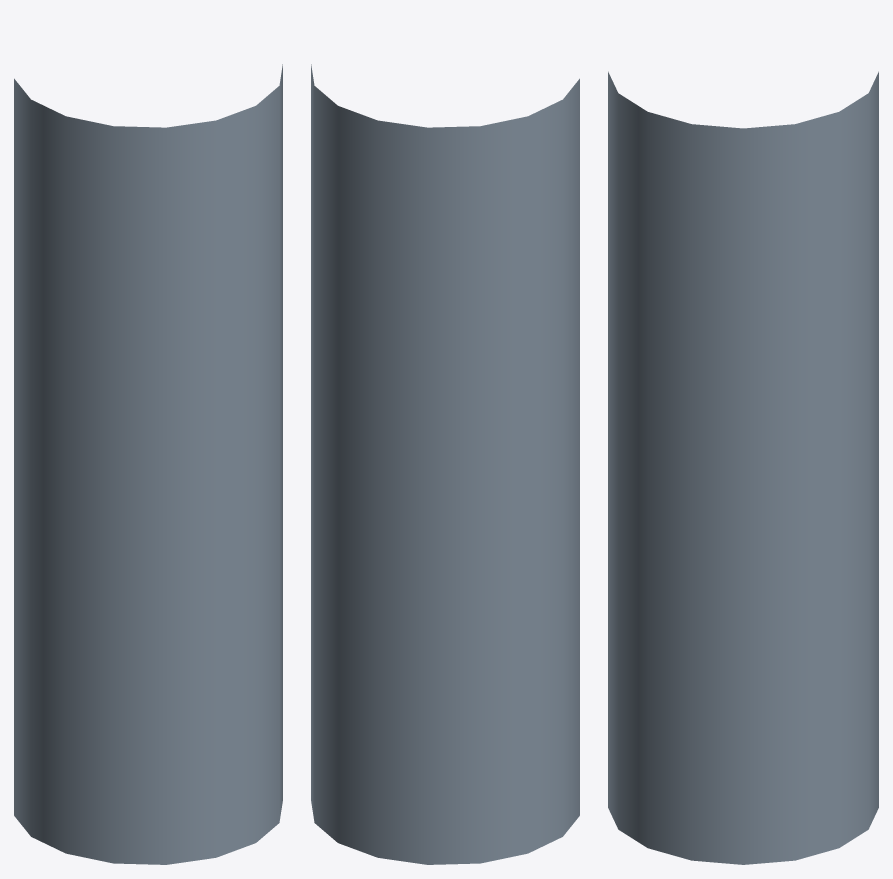
The model's file is Pillar1x3Rnd-copy.gltf.
3 renders of one model, left to right at view 1: azimuth 30°, elevation 25°; view 2: azimuth 150°, elevation 25°; view 3: azimuth 270°, elevation 25°, orthographic.
Parts seen in each view (by area): view 1: Pillar1x3RndShape; view 2: Pillar1x3RndShape; view 3: Pillar1x3RndShape.
Boxes of the visible parts, x1=… form: Pillar1x3RndShape: x1=14, y1=64, x2=282, y2=864; Pillar1x3RndShape: x1=311, y1=64, x2=579, y2=864; Pillar1x3RndShape: x1=608, y1=71, x2=878, y2=864.
Size of the model in its own units: 100 by 300 by 100.
Materials: 1 (1 with a texture image).
